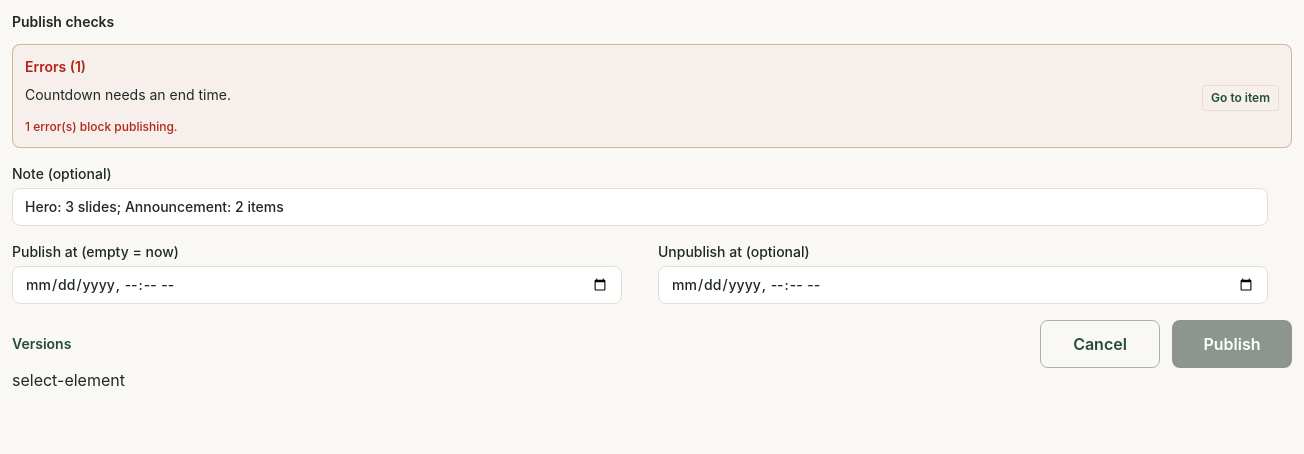
Test case: PublishPanel › jumps announcement issues to the affected item after closing the dialog
Click the button "Go to item": x=1241, y=98 [1202, 85, 1279, 111]
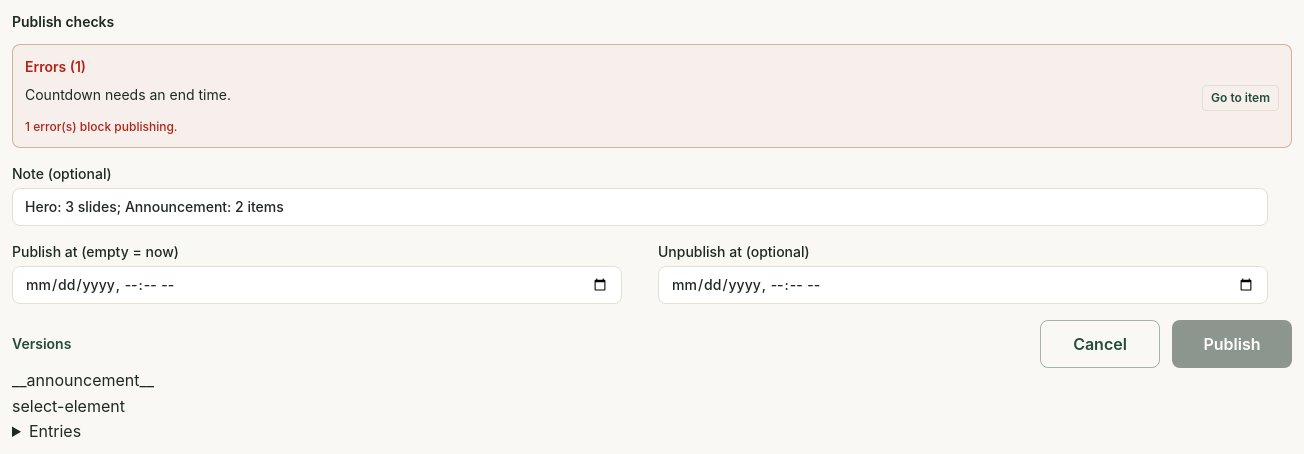
Result: the text with test id "selected-section" reads "__announcement__" at [12, 370, 154, 390]
